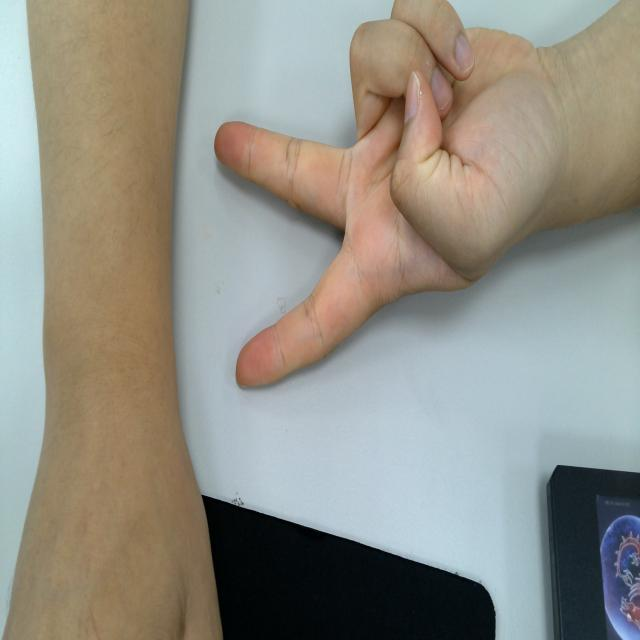Scissors: (212, 7, 534, 420)
